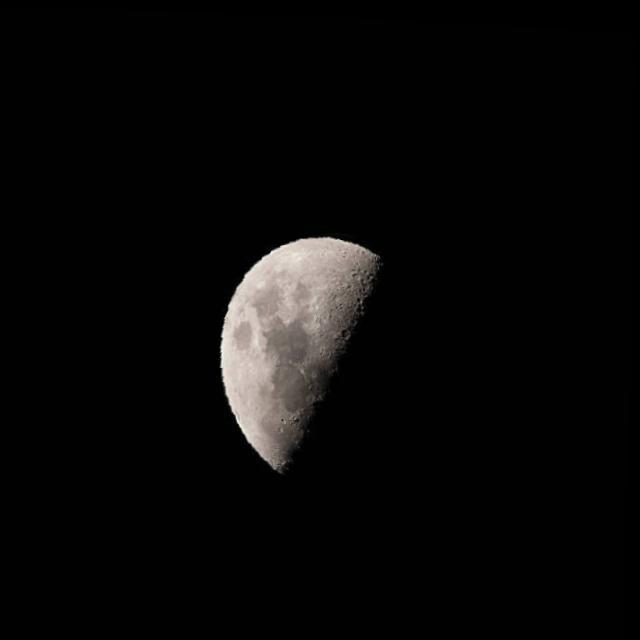moon: (215, 212, 468, 493)
